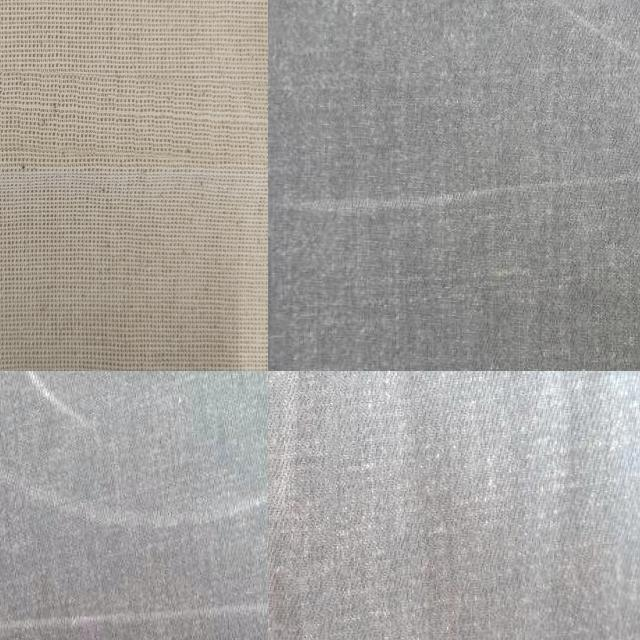stains: (268, 0, 640, 154), (0, 63, 268, 159), (268, 371, 344, 640)
